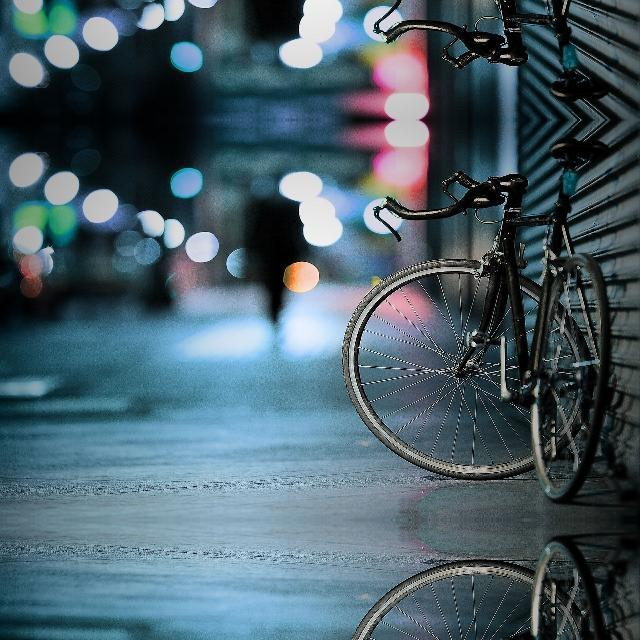obstacle: (340, 142, 640, 500), (340, 539, 640, 640), (340, 0, 640, 98)
